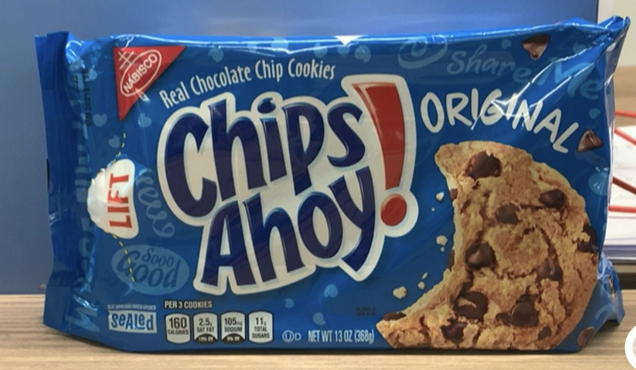cookies_300g-399g: (81, 50, 587, 343)
